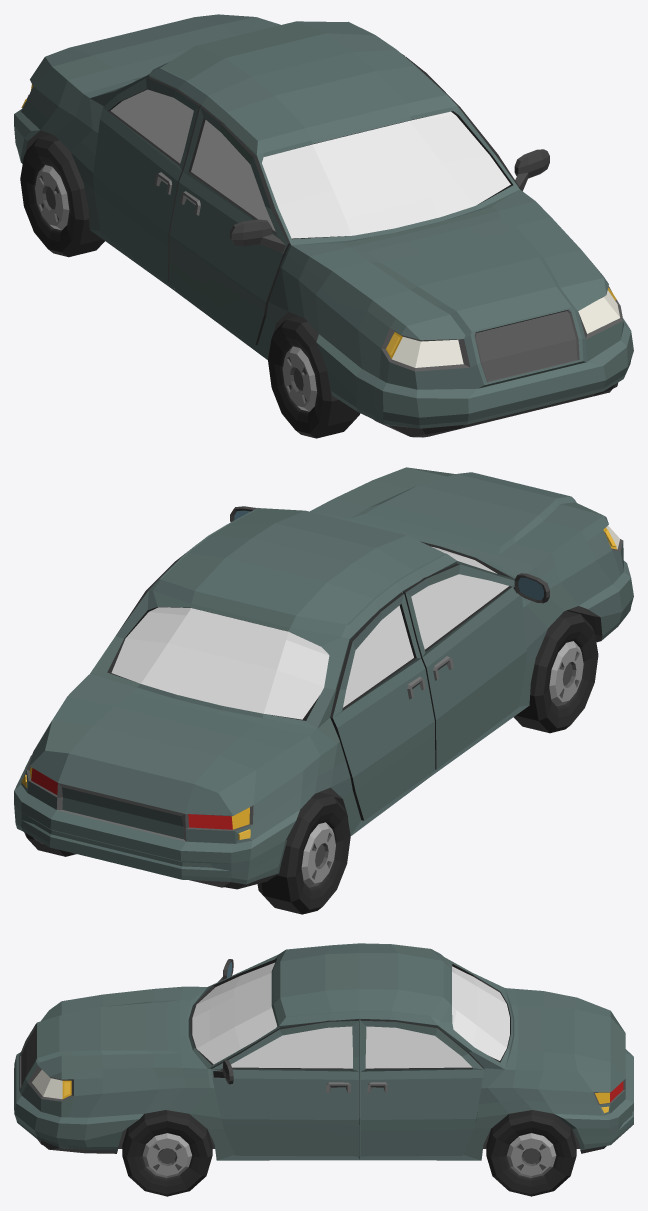
Rendered from Car_Simple_01.fbx.
3 renders of one model, top to bottom at view 1: azimuth 30°, elevation 25°; view 2: azimuth 150°, elevation 25°; view 3: azimuth 270°, elevation 25°, orthographic. The views are drawn at different scales.
Parts seen in each view (by area): view 1: Car_Simple_01, Car_base.010, Car_base.011, Wheel_Big_FrontL.018, Wheel_Big_FrontL.016, Car_base.008; view 2: Car_Simple_01, Car_base.010, Car_base.011, Wheel_Big_FrontL.018, Wheel_Big_FrontL.016; view 3: Car_Simple_01, Car_base.008, Car_base.009, Wheel_Big_FrontL.017, Wheel_Big_FrontL.015.
Part boxes in pixels (left/top/right/bottom): Car_Simple_01: left=14, top=14, right=633, bottom=437; Car_base.010: left=169, top=106, right=289, bottom=344; Car_base.011: left=93, top=77, right=201, bottom=282; Wheel_Big_FrontL.018: left=20, top=134, right=104, bottom=257; Wheel_Big_FrontL.016: left=268, top=316, right=360, bottom=438; Car_base.008: left=406, top=57, right=549, bottom=191; Car_Simple_01: left=14, top=467, right=633, bottom=889; Car_base.010: left=403, top=563, right=549, bottom=769; Car_base.011: left=330, top=593, right=435, bottom=820; Wheel_Big_FrontL.018: left=257, top=792, right=350, bottom=914; Wheel_Big_FrontL.016: left=513, top=610, right=598, bottom=733; Car_Simple_01: left=14, top=943, right=633, bottom=1160; Car_base.008: left=211, top=1019, right=359, bottom=1156; Car_base.009: left=360, top=1019, right=484, bottom=1156; Wheel_Big_FrontL.017: left=486, top=1110, right=576, bottom=1196; Wheel_Big_FrontL.015: left=122, top=1110, right=212, bottom=1196.
Size of the model in its own units: 286 by 208 by 656.
